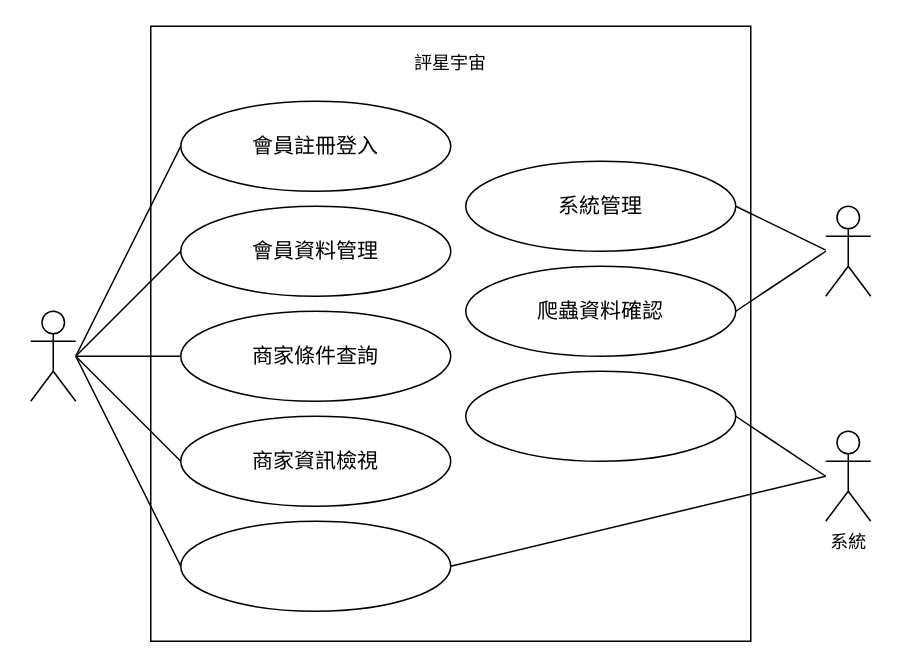
This 900x668 diagram has some shape labels left out. The centre of each missing label's shape, as x and y in pixels:
"使用者" goes at pixel 52 355.
"地圖資料爬蟲" goes at pixel 600 415.
"熱門商家推薦" goes at pixel 315 565.
"管理員" goes at pixel 847 250.
